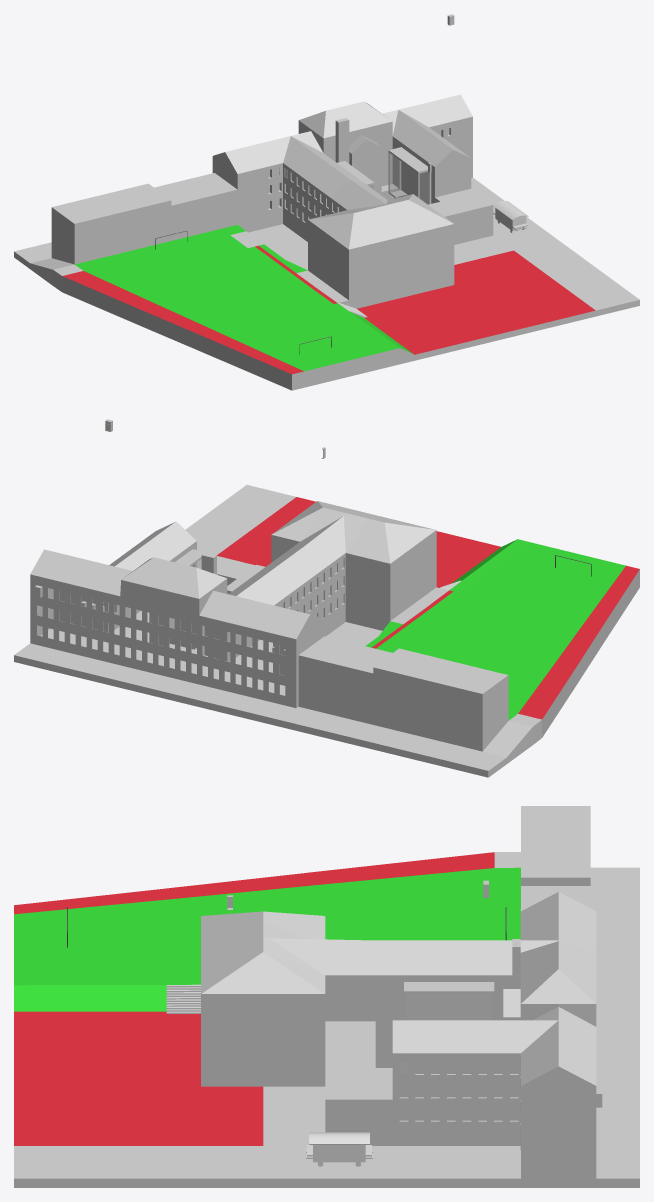
File: astgasse_v0.5.glb
The picture shows the model from 3 angles, top to bottom: view 1: azimuth 30°, elevation 25°; view 2: azimuth 150°, elevation 25°; view 3: azimuth 270°, elevation 25°; orthographic projection. The views are drawn at different scales.
Parts seen in each view (by area): view 1: gebäude, train; view 2: gebäude; view 3: gebäude, train, treppe_rasenplatz.
Boxes of the visible parts, box(x1,y1,x2,y2) form: gebäude: box(14, 94, 639, 390); train: box(493, 201, 528, 232); gebäude: box(14, 485, 639, 777); gebäude: box(14, 806, 639, 1187); train: box(306, 1132, 372, 1166); treppe_rasenplatz: box(166, 984, 200, 1013).
Size of the model in its own units: 99.12 by 41.65 by 84.26.
